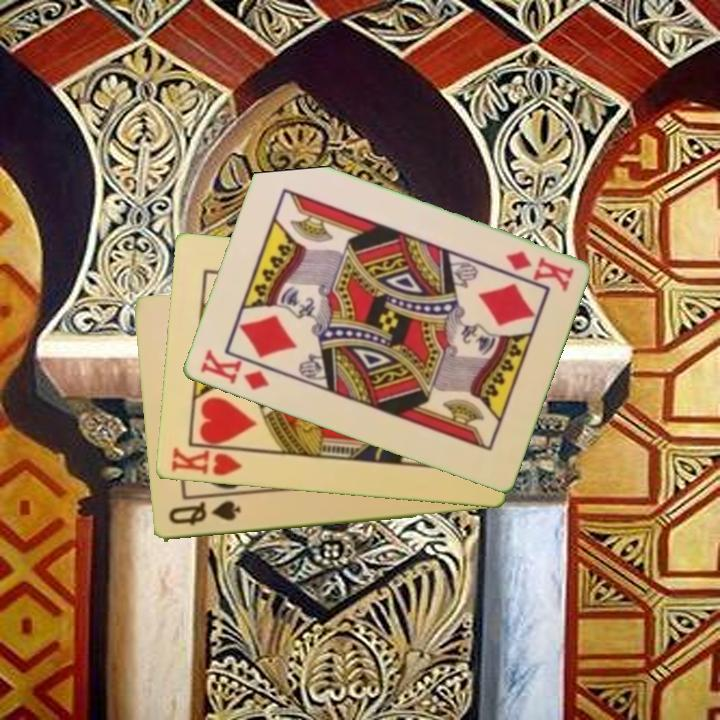Kd: (196, 346, 272, 394), (501, 247, 576, 294)
Kh: (167, 443, 250, 479)
Qs: (165, 498, 243, 529)
